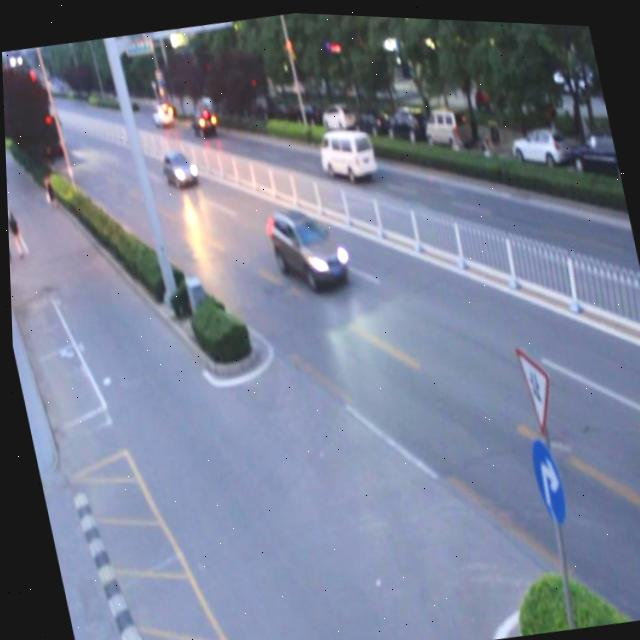car: (259, 194, 349, 299), (157, 142, 198, 189), (185, 99, 215, 133)
truck: (313, 121, 377, 184)
